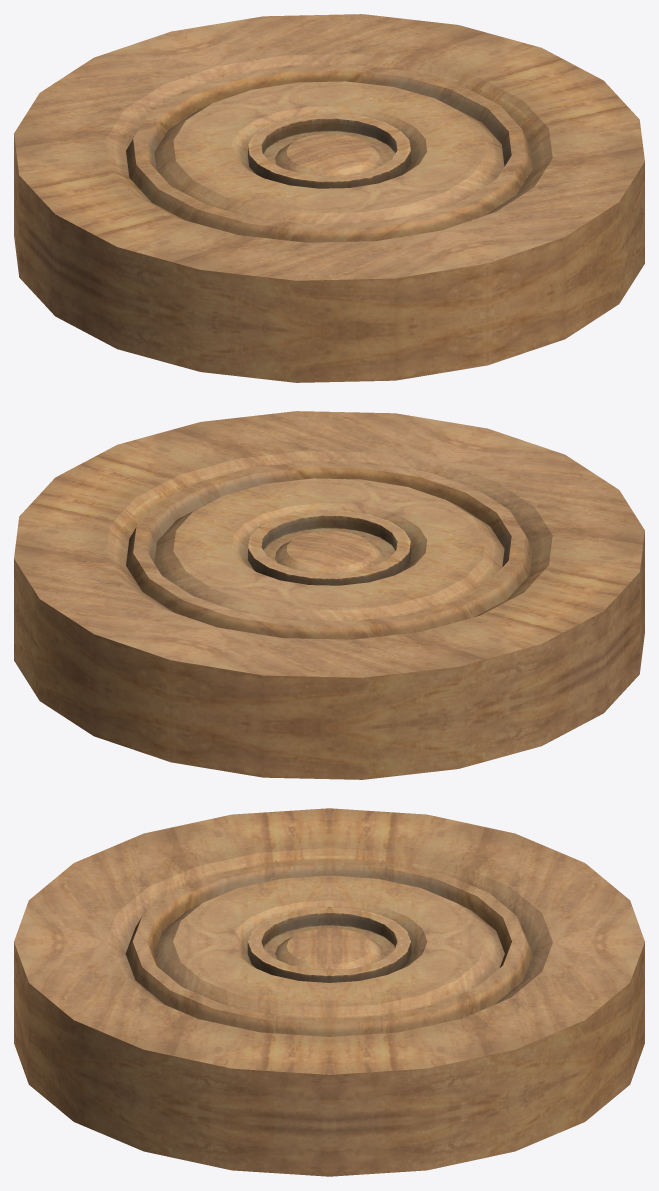
Rendered from carromWball.fbx.
3 renders of one model, top to bottom at view 1: azimuth 30°, elevation 25°; view 2: azimuth 150°, elevation 25°; view 3: azimuth 270°, elevation 25°, orthographic.
Visible parts, largest first — view 1: Object_35; view 2: Object_35; view 3: Object_35.
Part boxes in pixels (bbox=[...]): Object_35: bbox=[14, 14, 644, 382]; Object_35: bbox=[14, 411, 644, 779]; Object_35: bbox=[14, 808, 644, 1176].
Size of the model in its own units: 18.36 by 3.27 by 18.36.
Materials: 1 (1 with a texture image).
